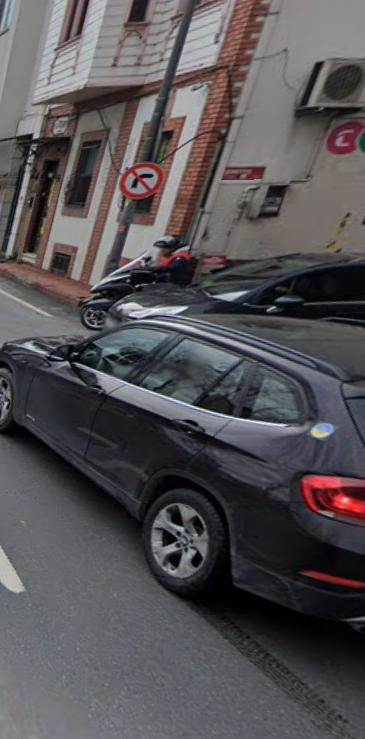greenlight: (119, 162, 165, 198)
